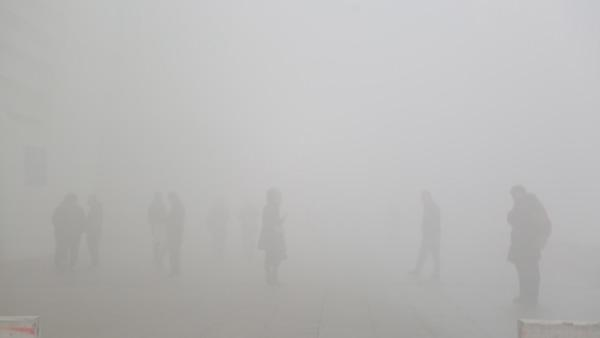person: (506, 186, 552, 308), (257, 187, 289, 285), (407, 189, 441, 279), (162, 192, 185, 277), (52, 192, 74, 271), (64, 194, 85, 271), (209, 194, 230, 262), (83, 195, 101, 268), (149, 192, 167, 264)
